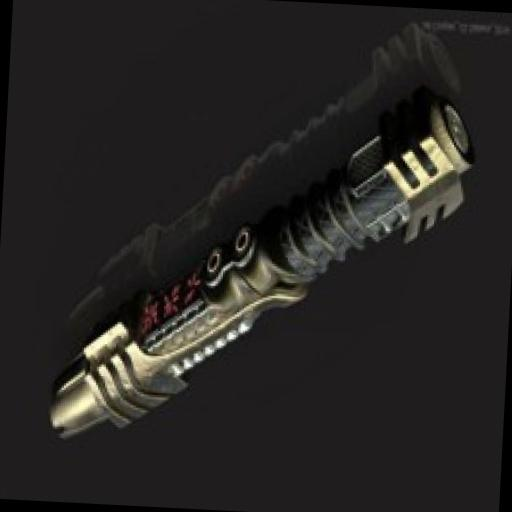lightsaber: (46, 74, 480, 466)
